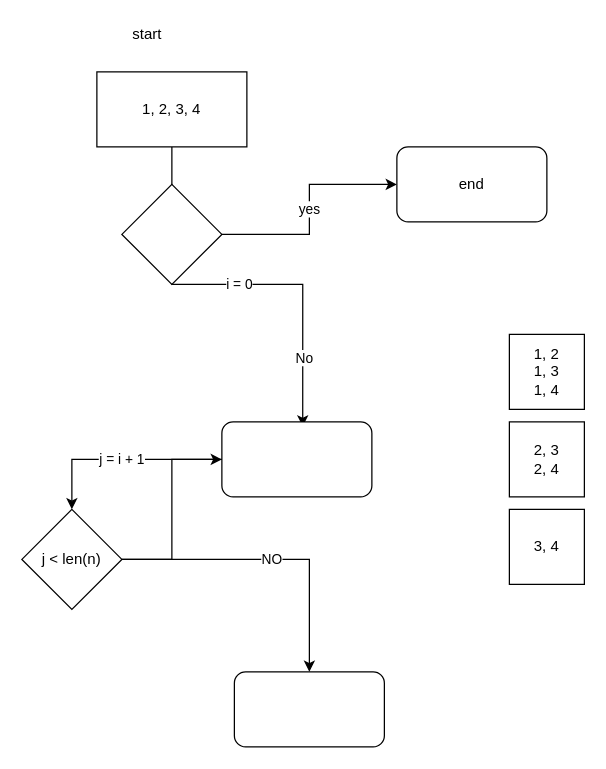
Image size: 606x769. Some labels were removed from this diagram. The centre of each missing label's shape, as x and y in pixels:
"i < len(n)" belongs at (171,233).
"i loop" belongs at (296,459).
"j Loop" belongs at (308,709).
